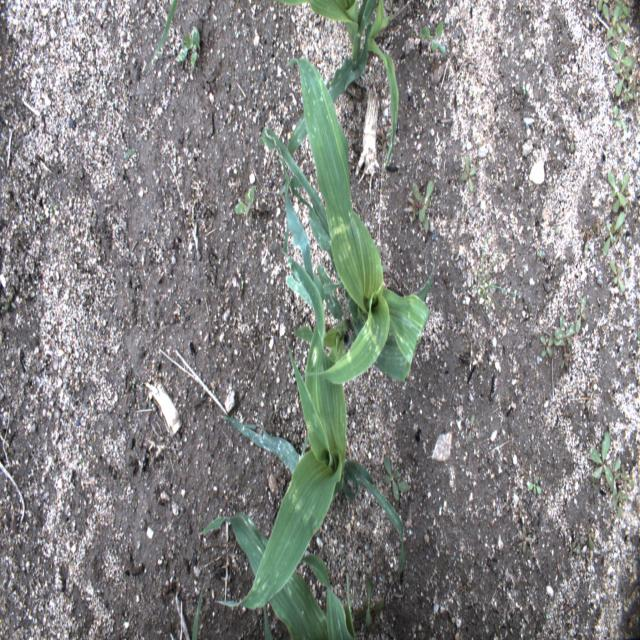crop: (213, 175, 405, 609), (258, 54, 434, 384), (269, 0, 399, 171), (201, 509, 357, 639), (291, 263, 361, 354), (153, 0, 180, 62), (190, 594, 202, 640)
weed: (471, 229, 532, 317), (354, 576, 385, 634), (382, 456, 410, 508), (589, 430, 613, 490), (410, 179, 434, 231), (176, 23, 202, 71), (603, 210, 628, 258), (418, 18, 445, 55), (233, 184, 256, 226), (607, 169, 628, 214), (616, 56, 636, 97), (606, 42, 633, 72), (553, 312, 575, 347), (460, 153, 477, 194), (601, 5, 621, 39), (608, 258, 626, 292), (578, 525, 597, 553), (612, 458, 622, 507), (575, 297, 586, 334), (614, 102, 627, 132), (518, 524, 530, 556), (526, 473, 542, 497), (616, 3, 628, 35), (4, 285, 18, 312), (540, 333, 554, 360), (618, 489, 629, 518), (622, 84, 637, 104), (622, 468, 634, 490), (568, 539, 585, 553), (467, 412, 474, 445), (561, 349, 572, 370), (46, 197, 58, 216), (123, 147, 138, 159), (595, 0, 609, 11), (288, 432, 298, 447), (582, 396, 590, 412), (582, 240, 589, 255), (538, 247, 544, 263), (569, 140, 575, 156), (521, 82, 527, 98), (554, 224, 560, 238), (523, 630, 531, 640), (131, 376, 136, 392), (544, 606, 550, 618), (197, 512, 203, 524), (277, 401, 283, 413), (37, 212, 43, 224), (430, 570, 436, 581), (240, 280, 245, 293), (581, 231, 586, 240)
